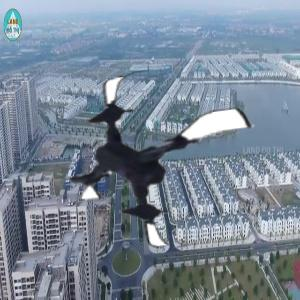drone: (63, 61, 259, 257)
